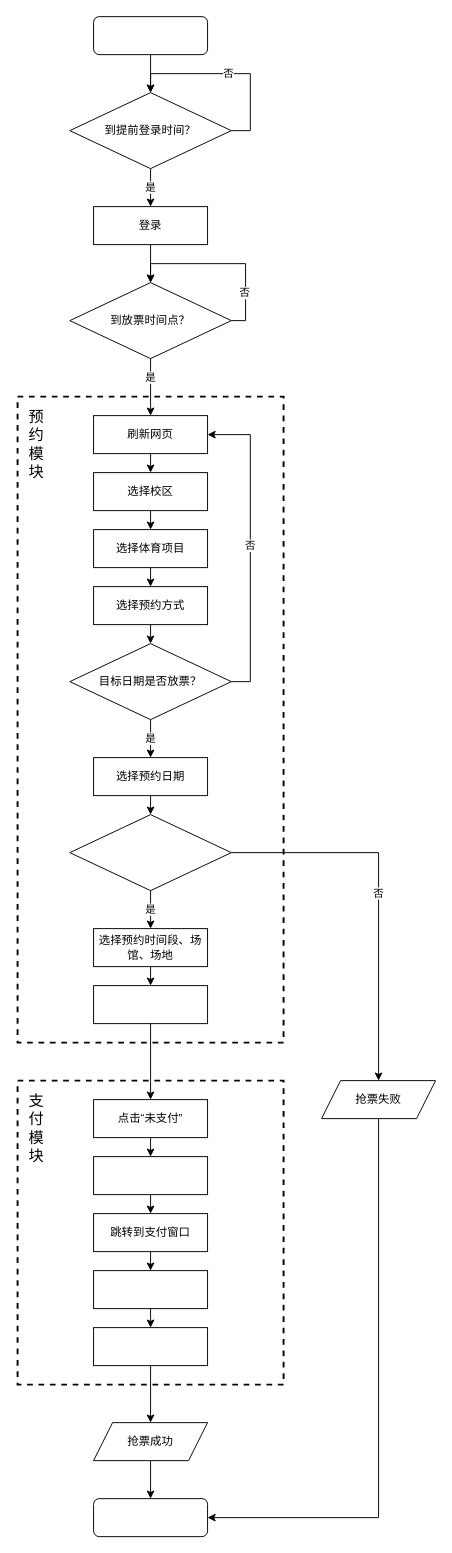
Some shapes in this 452 by 1553 pixel diagram are drawn without their labels. Each missing label, with the centre of its shape:
"开始抢票" goes at (150,35).
"提交预约" goes at (150,1004).
"点击“体育经费支付”" goes at (150,1175).
"目标时间段是否可预约？" goes at (150,852).
"确认支付" goes at (150,1346).
"结束抢票" goes at (150,1517).
"输入密码" goes at (150,1289).
